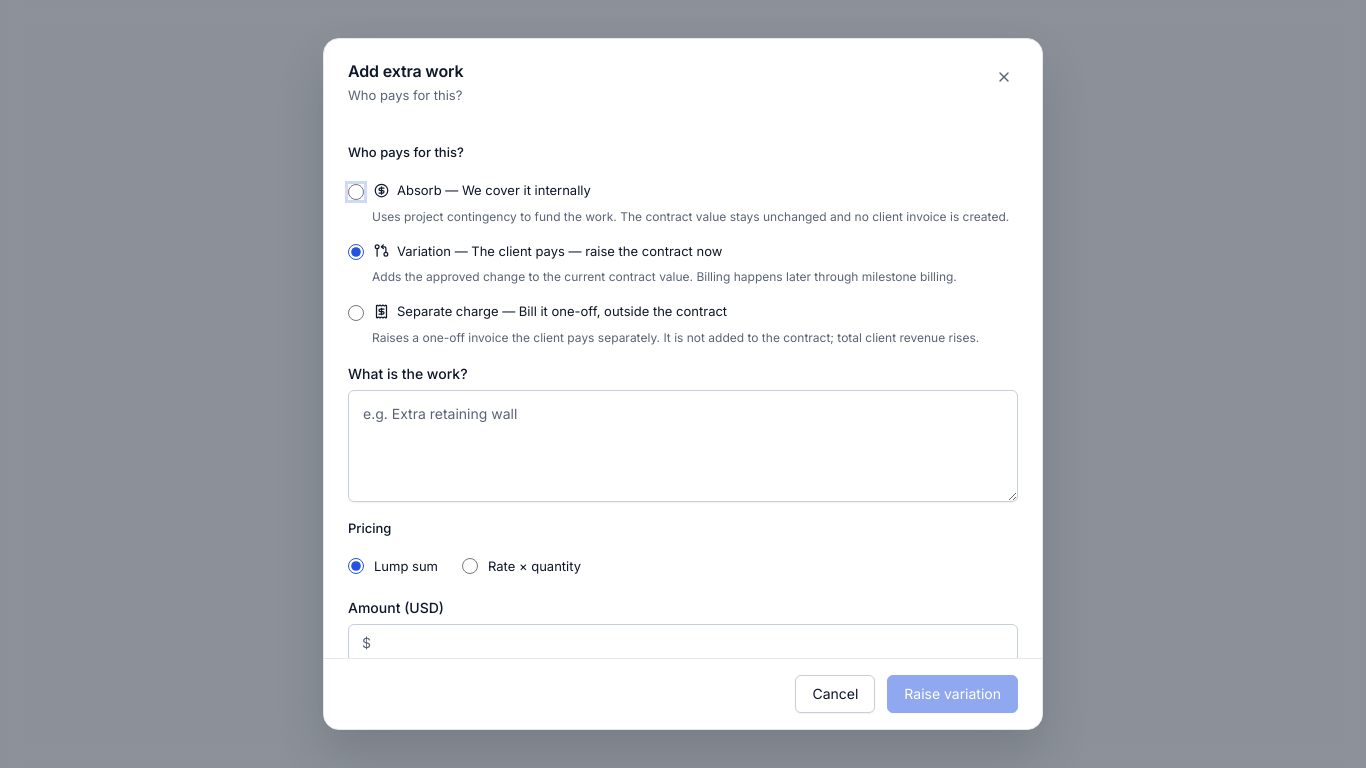
Test: AddExtraWorkDialog › shows ABSORB consequence: "Internal cost · Contract unchanged · {amount}"
Click the radio button labelled "Absorb — We cover it internally" at [356, 192], box [348,184,364,200]
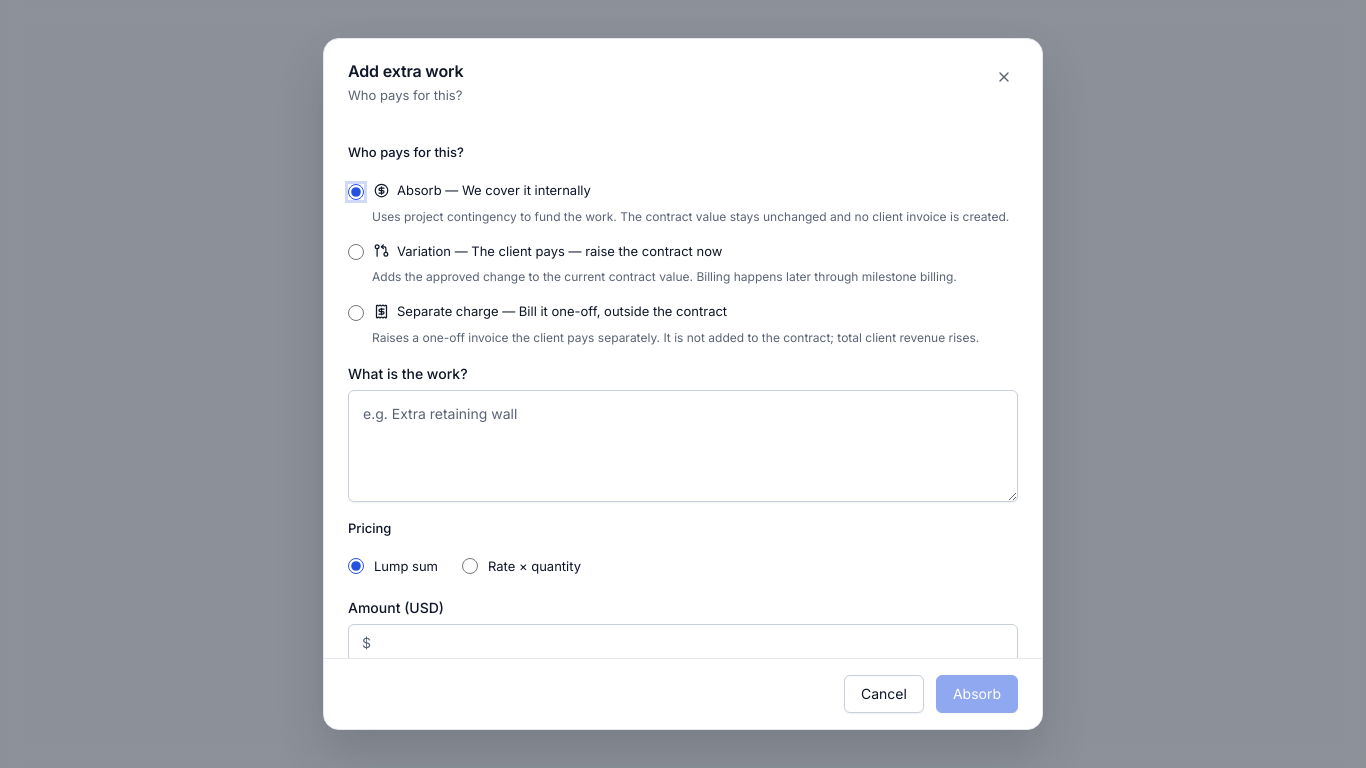
Type "2000" into the field labelled "Amount (USD)" at [683, 643], box [348,624,1018,662]
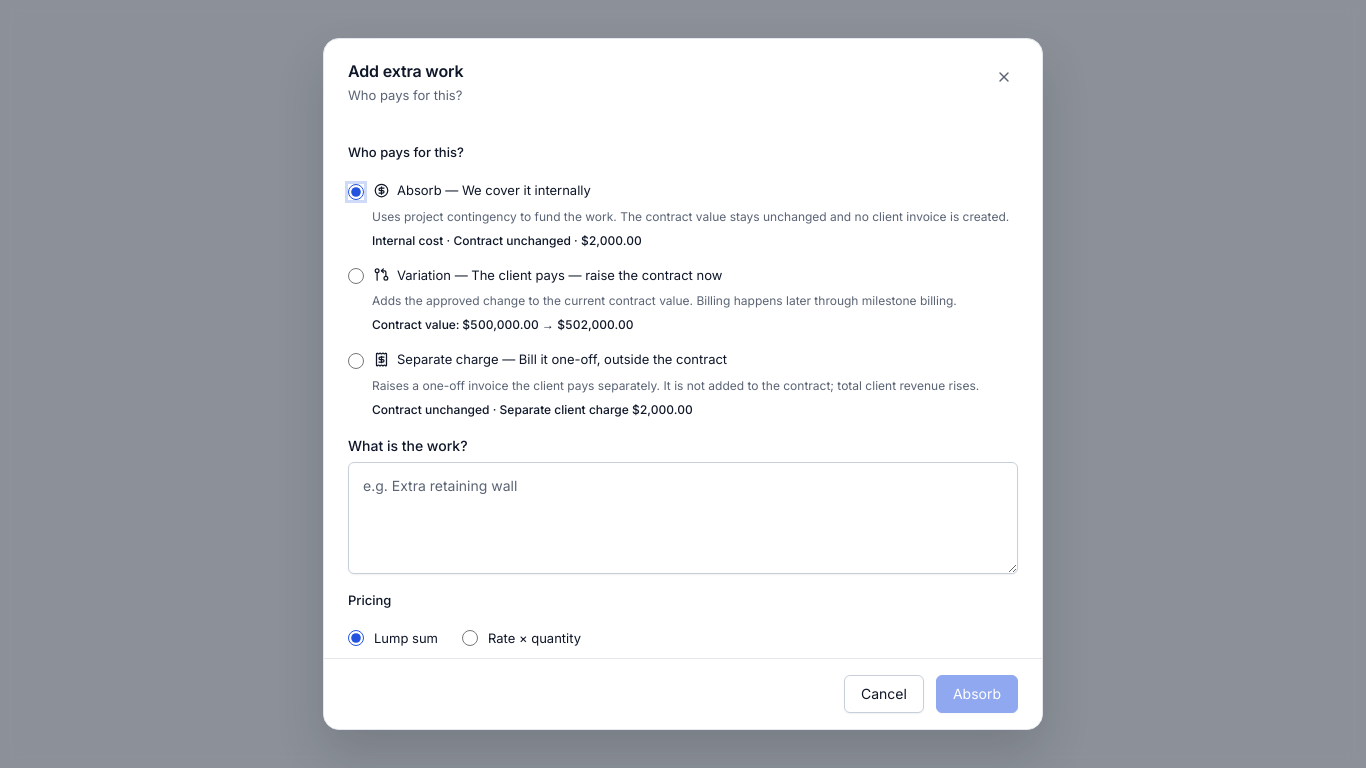
Result: the text "Internal cost" is shown at [372,233,642,248]
Result: the text "Contract unchanged" is shown at [372,233,642,248]
